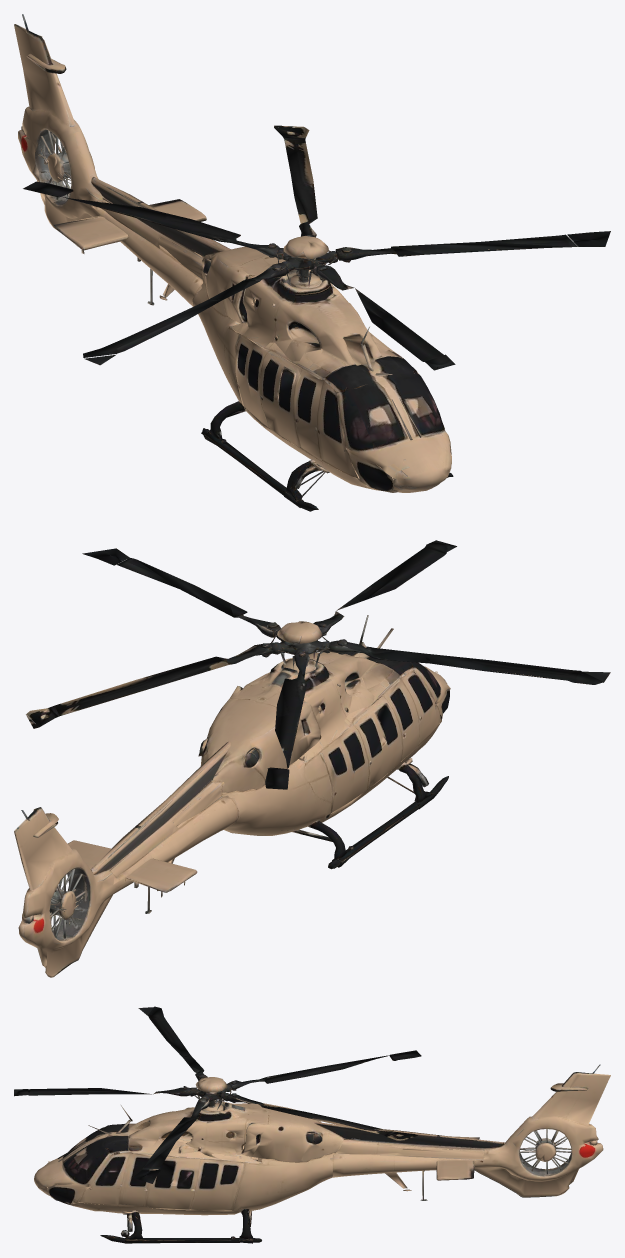
File: helicopter_bronze.glb
3 views of the same model, one above another, from view 1: azimuth 30°, elevation 25°; view 2: azimuth 150°, elevation 25°; view 3: azimuth 270°, elevation 25° (orthographic). The views are drawn at different scales.
Visible parts, largest first — view 1: prop; view 2: prop; view 3: prop.
Boxes of the visible parts, box(x1,y1,x2,y2) form: prop: box(14, 14, 610, 511); prop: box(14, 540, 610, 977); prop: box(14, 1006, 610, 1243).
Bounding box in the file's own units: 9.14 × 3.75 × 13.
1 material, 1 textured.
